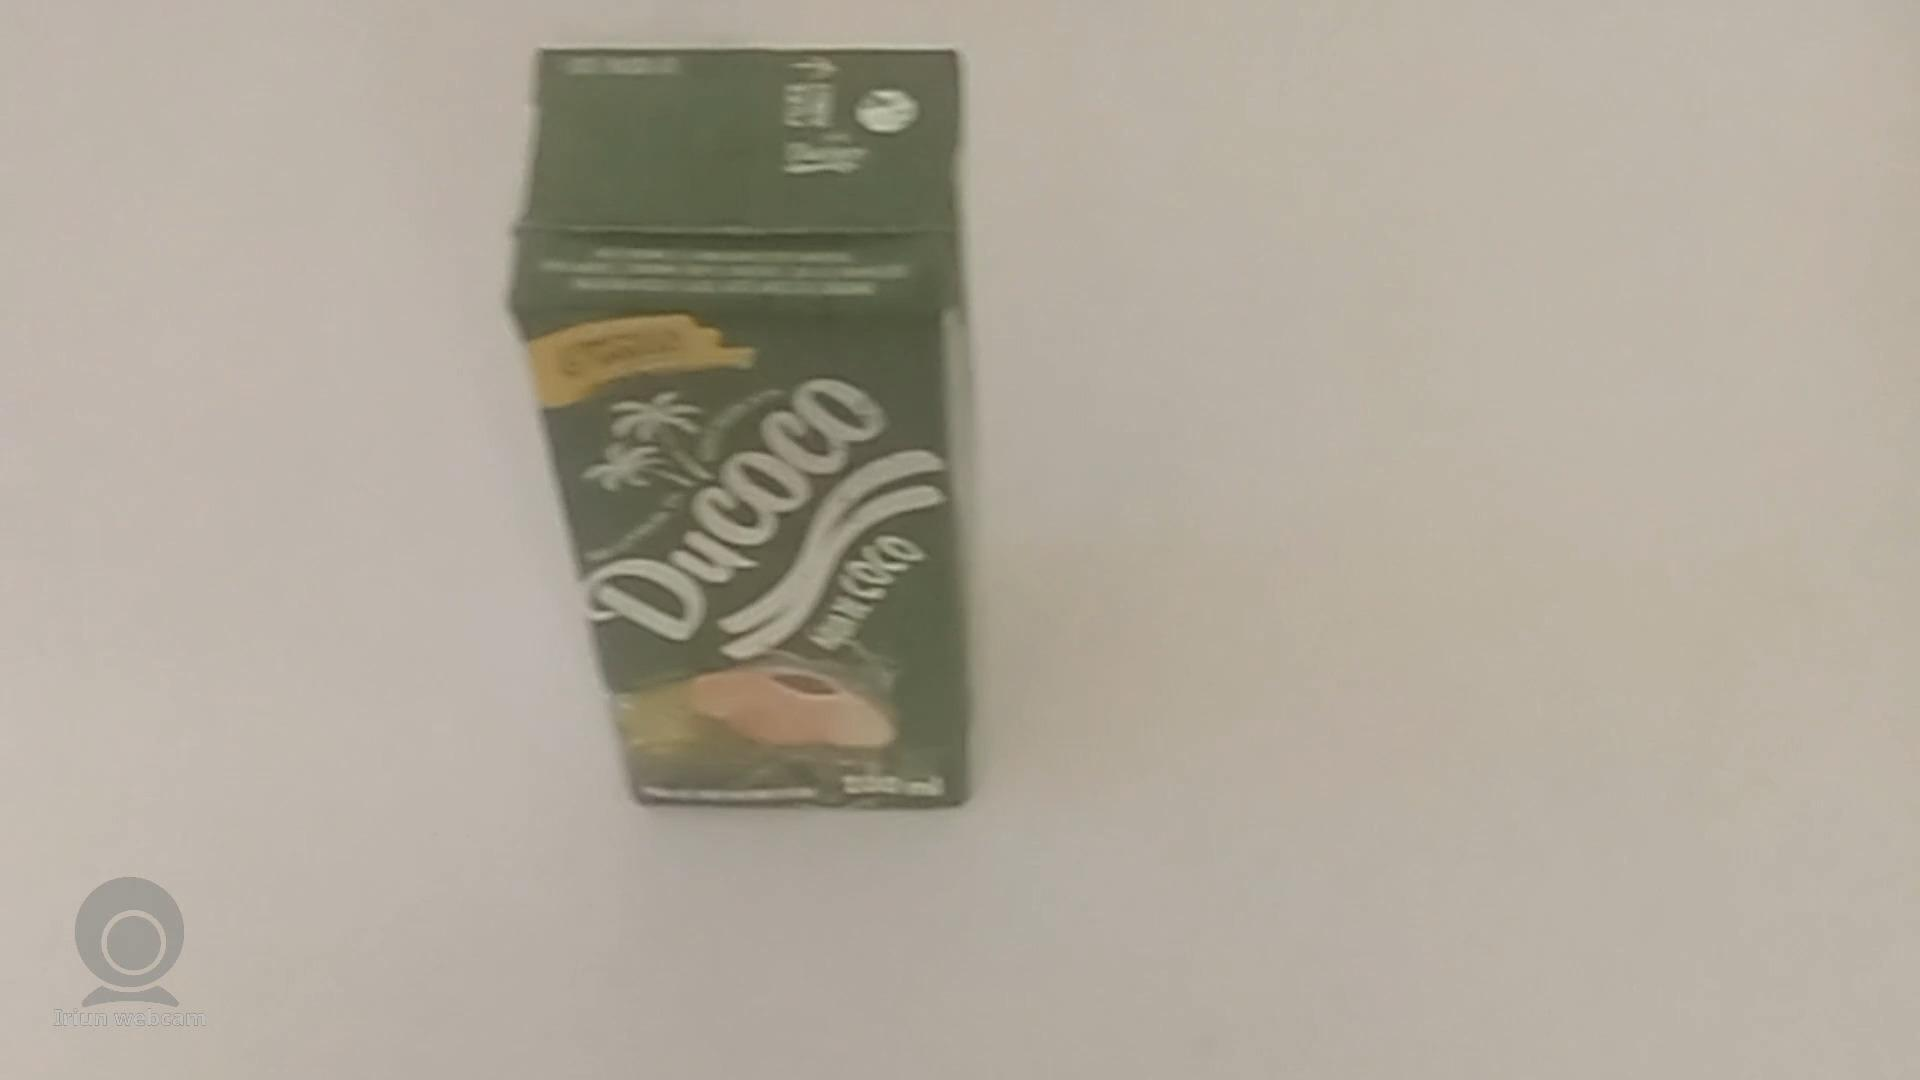coco: (509, 44, 981, 824)
